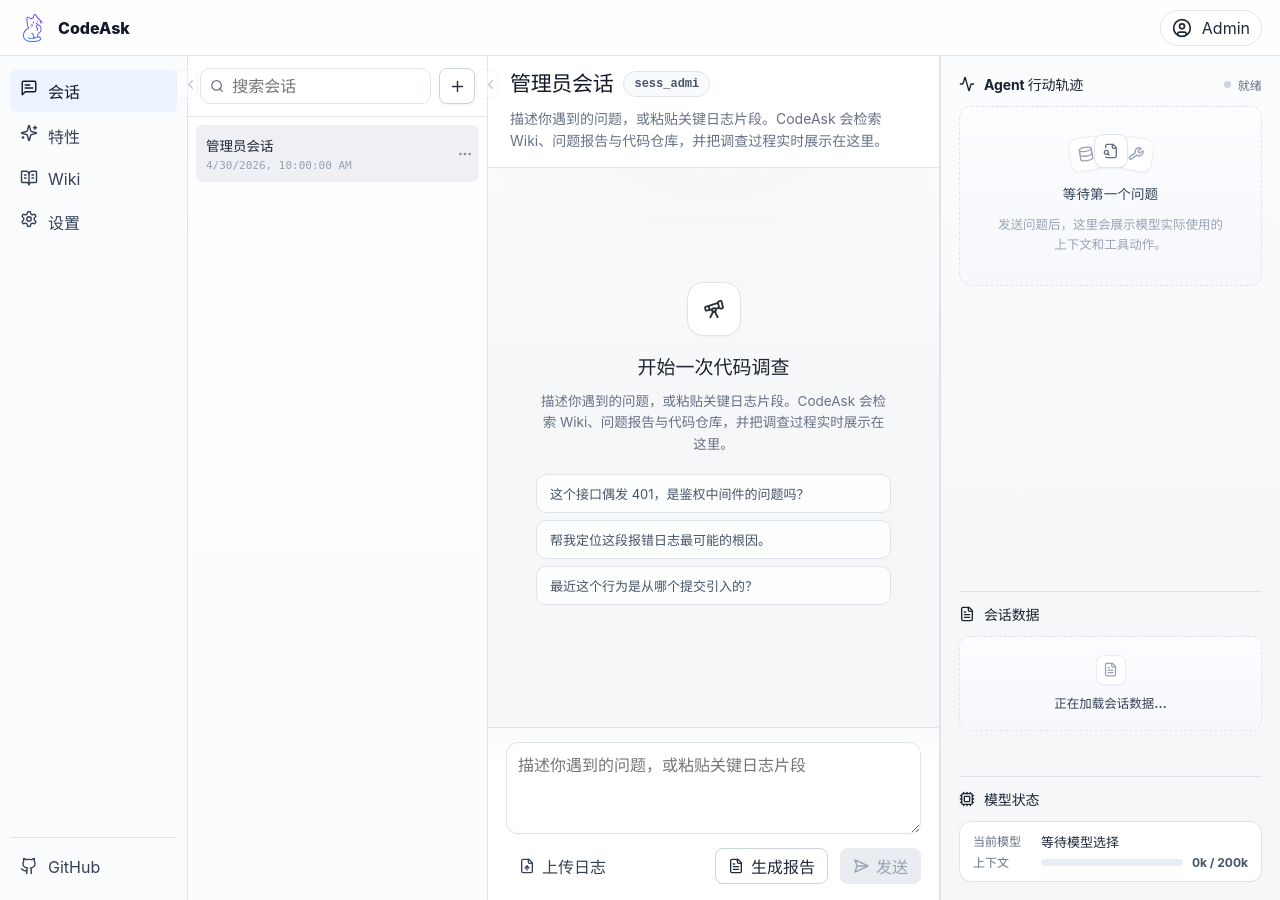
SettingsPage LLM configuration › refreshes session data after admin logout switches back to the anonymous subject
Click the button "Admin". click: (1211, 28)
box: [1160,10,1262,46]
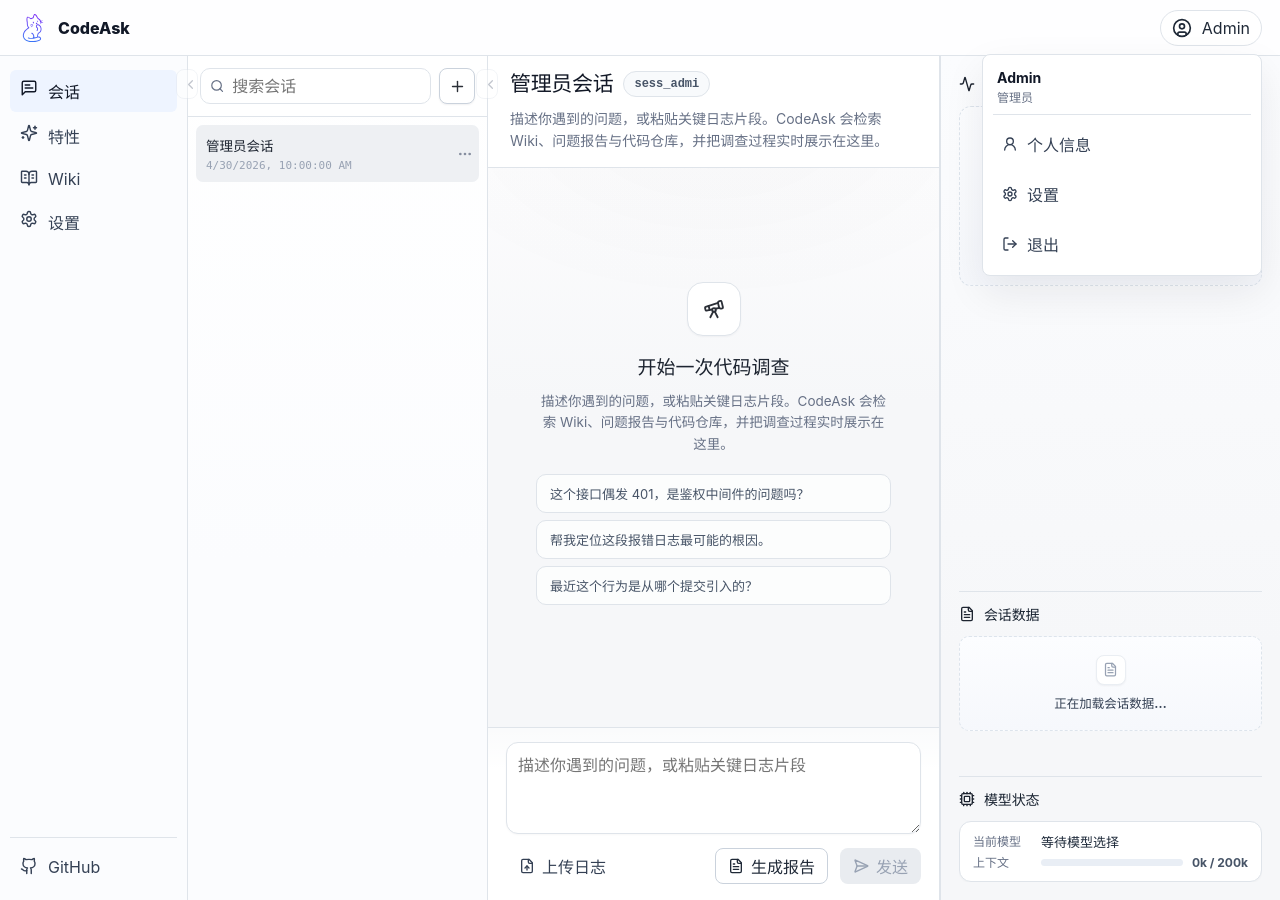
Click the menu item "退出". click: (1122, 244)
box: [993,222,1251,264]
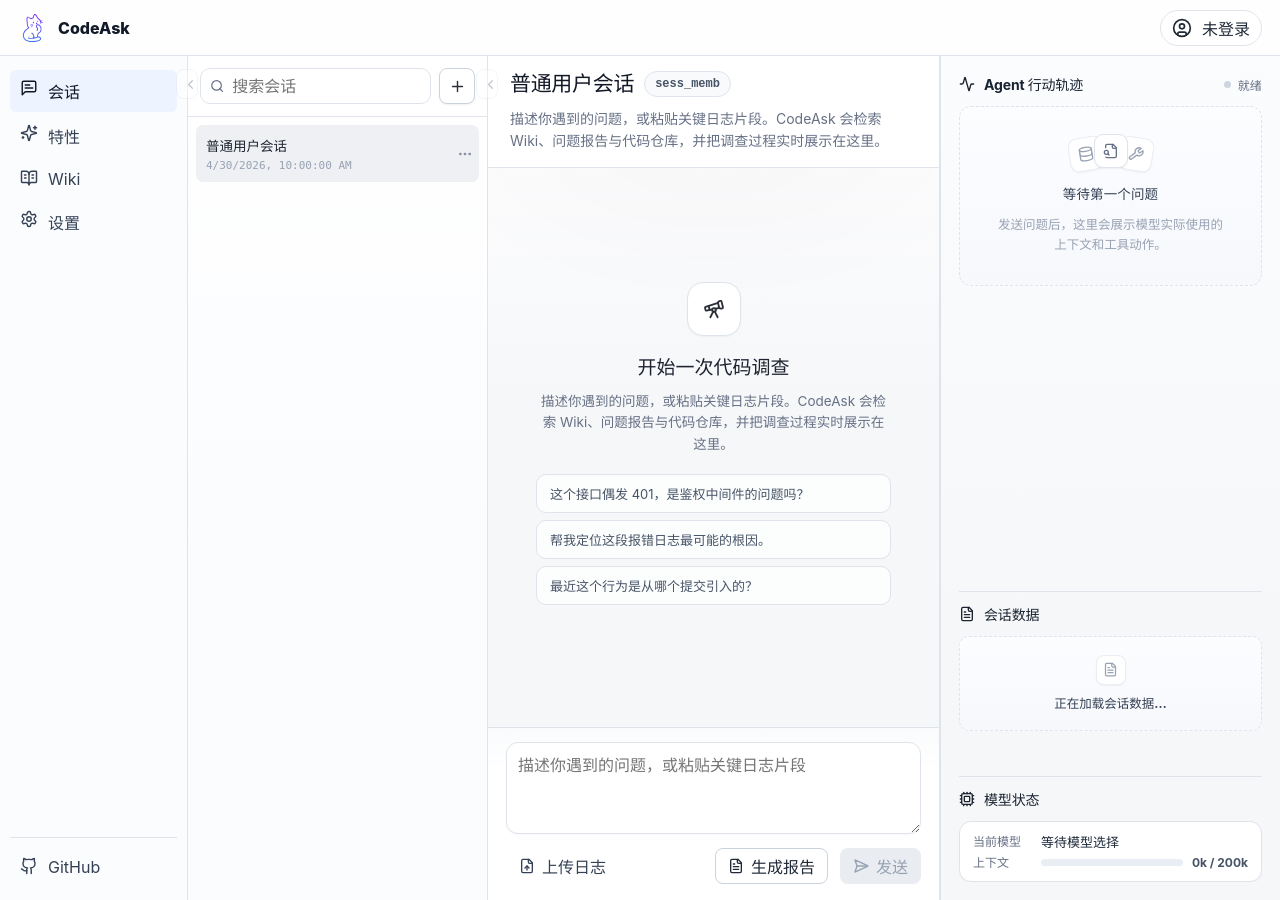
Check: the button "未登录" is shown, box [1160,10,1262,46]
Check: no buttons "管理员会话" are shown
